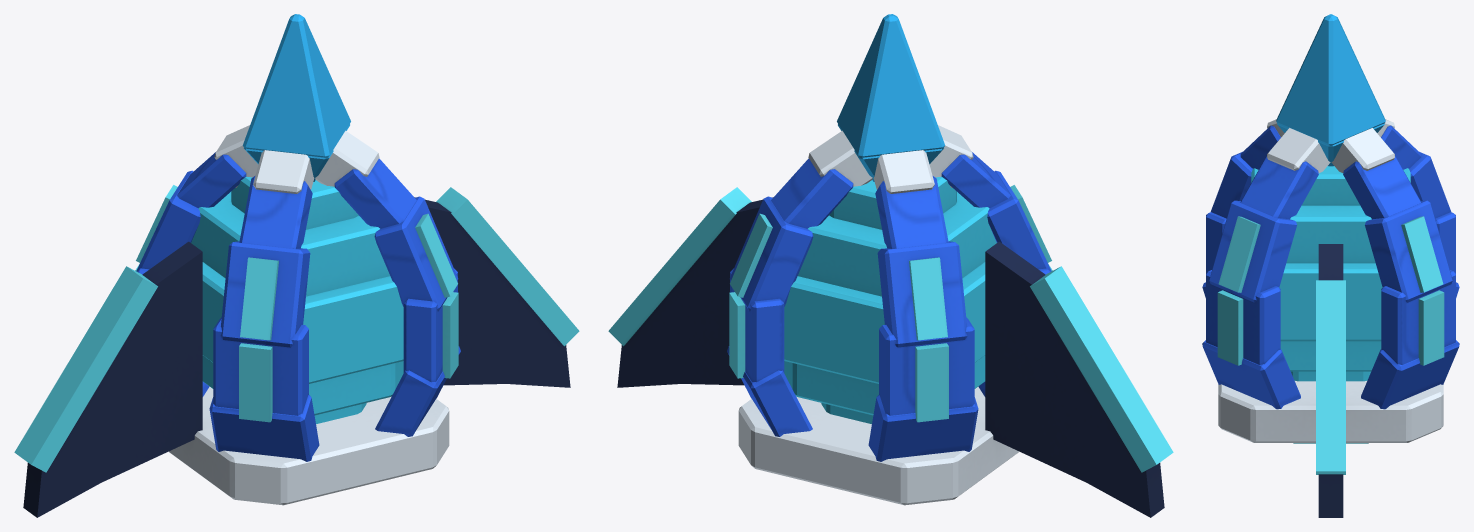
The model's file is Lovibum_Turbo.fbx.
3 views of the same model, side by side, from view 1: azimuth 30°, elevation 25°; view 2: azimuth 150°, elevation 25°; view 3: azimuth 270°, elevation 25° (orthographic). The views are drawn at different scales.
Parts seen in each view (by area): view 1: LovibumTurboBase, LovibumTurboClaw3, LovibumTurboCore, LovibumTurboClaw4, LovibumTurboCrystal, LovibumTurboClaw2; view 2: LovibumTurboBase, LovibumTurboClaw2, LovibumTurboCore, LovibumTurboClaw1, LovibumTurboCrystal, LovibumTurboClaw3; view 3: LovibumTurboClaw1, LovibumTurboClaw4, LovibumTurboBase, LovibumTurboCore, LovibumTurboCrystal, LovibumTurboClaw2, LovibumTurboClaw3.
Boxes of the visible parts, x1,y1,x2,y2 form: LovibumTurboBase: (14,187,579,517); LovibumTurboClaw3: (209,150,319,461); LovibumTurboCore: (191,176,403,424); LovibumTurboClaw4: (315,130,460,436); LovibumTurboCrystal: (242,14,350,181); LovibumTurboClaw2: (135,125,258,396); LovibumTurboBase: (608,187,1173,517); LovibumTurboClaw2: (868,150,978,461); LovibumTurboCore: (784,176,996,424); LovibumTurboClaw1: (727,130,872,436); LovibumTurboCrystal: (837,14,945,181); LovibumTurboClaw3: (929,125,1052,396); LovibumTurboClaw1: (1331,128,1459,409); LovibumTurboClaw4: (1202,128,1330,409); LovibumTurboBase: (1218,244,1443,517); LovibumTurboCore: (1251,166,1410,381); LovibumTurboCrystal: (1276,14,1385,166); LovibumTurboClaw2: (1377,119,1459,297); LovibumTurboClaw3: (1202,119,1284,297).
Bounding box in the file's own units: 2.06 × 1.63 × 0.935.
